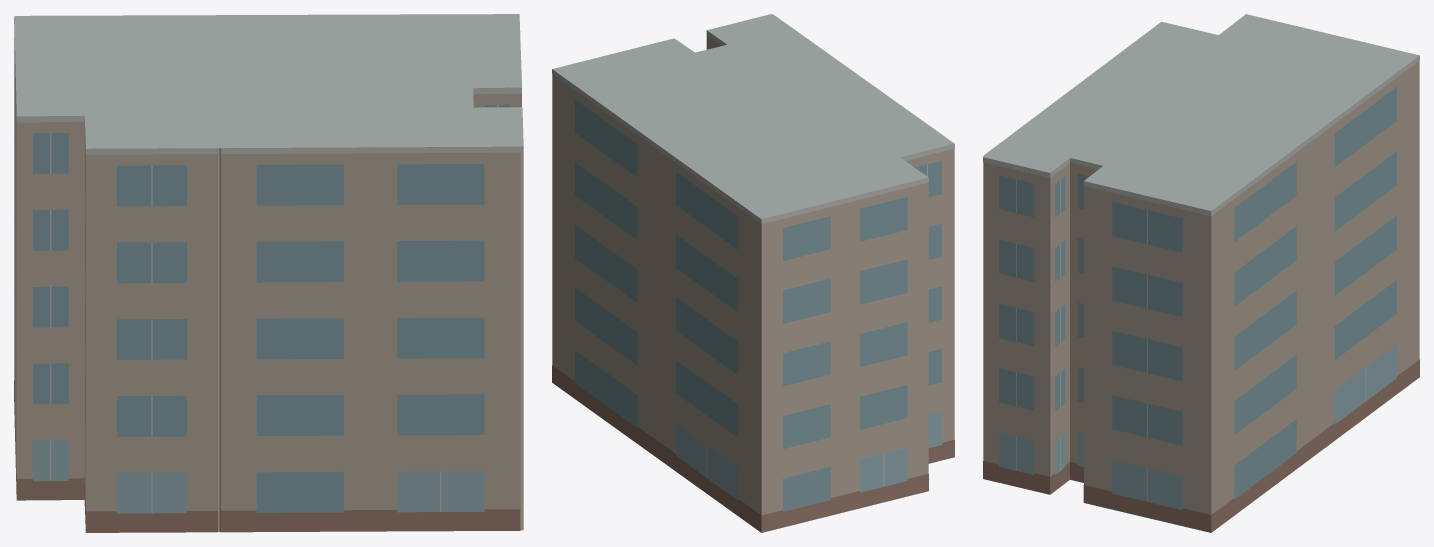
File: survey-upis-33024905.glb
The picture shows the model from 3 angles, left to right: view 1: azimuth 30°, elevation 25°; view 2: azimuth 150°, elevation 25°; view 3: azimuth 270°, elevation 25°; orthographic projection. The views are drawn at different scales.
Visible parts, largest first — view 1: survey-upis-33024905.tmp; view 2: survey-upis-33024905.tmp; view 3: survey-upis-33024905.tmp.
Part boxes in pixels (x1,y1,x2,y2): survey-upis-33024905.tmp: [14, 14, 523, 532]; survey-upis-33024905.tmp: [552, 14, 954, 532]; survey-upis-33024905.tmp: [983, 14, 1419, 532].
Size of the model in its own units: 20.5 by 15.6 by 19.19.
